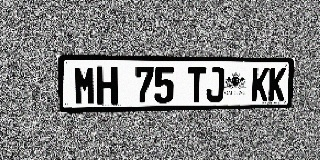5: (154, 67, 174, 104)
7: (134, 66, 154, 104)
H: (96, 66, 118, 105)
J: (206, 67, 225, 102)
K: (251, 67, 269, 101), (268, 67, 286, 101)
M: (73, 66, 96, 105)
T: (187, 67, 206, 103)
